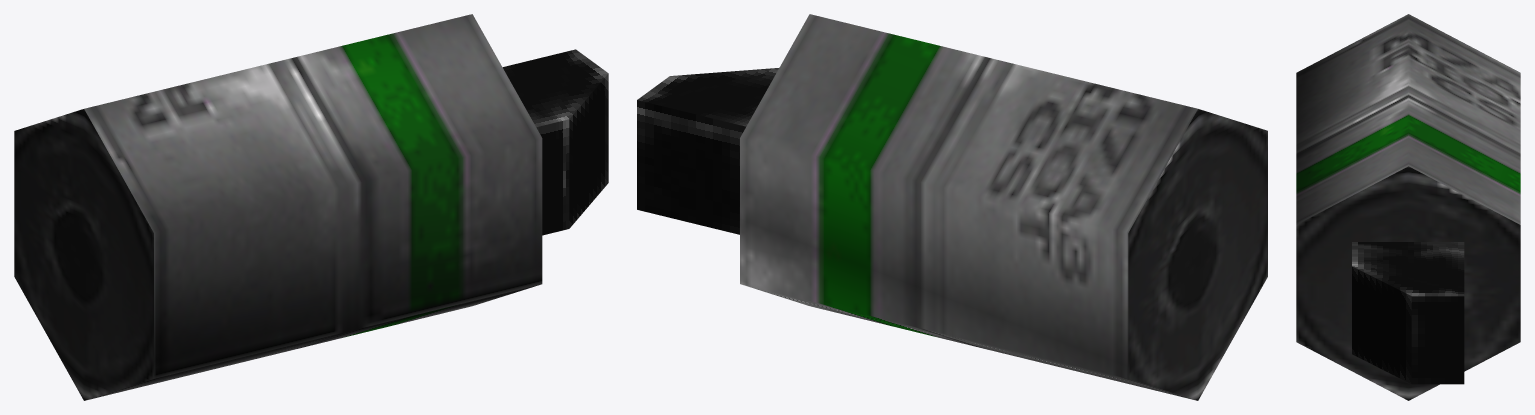
Rendered from smokegrenade.glb.
The picture shows the model from 3 angles, left to right: view 1: azimuth 30°, elevation 25°; view 2: azimuth 150°, elevation 25°; view 3: azimuth 270°, elevation 25°; orthographic projection. The views are drawn at different scales.
Parts seen in each view (by area): view 1: attachment_0, attachment_1; view 2: attachment_0, attachment_1; view 3: attachment_0, attachment_1.
Boxes of the visible parts, <box> form: attachment_0: <box>14,14,542,400</box>; attachment_1: <box>502,49,608,235</box>; attachment_0: <box>740,14,1267,400</box>; attachment_1: <box>637,68,778,234</box>; attachment_0: <box>1296,14,1520,400</box>; attachment_1: <box>1352,242,1464,384</box>.
Size of the model in its own units: 17.63 by 9.35 by 8.09.
2 materials, 2 textured.
